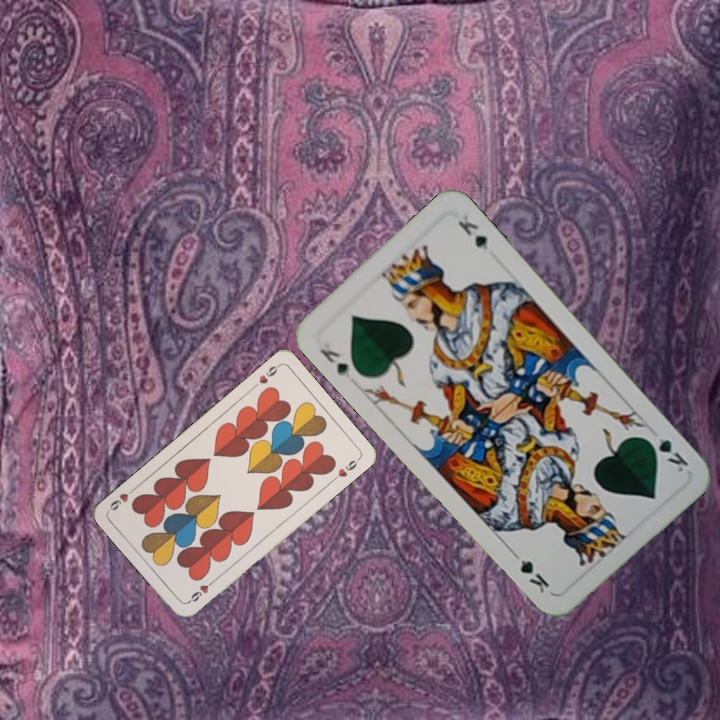GK: (641, 433, 691, 475), (315, 344, 353, 381)
H9: (249, 360, 283, 391), (184, 576, 218, 606)
